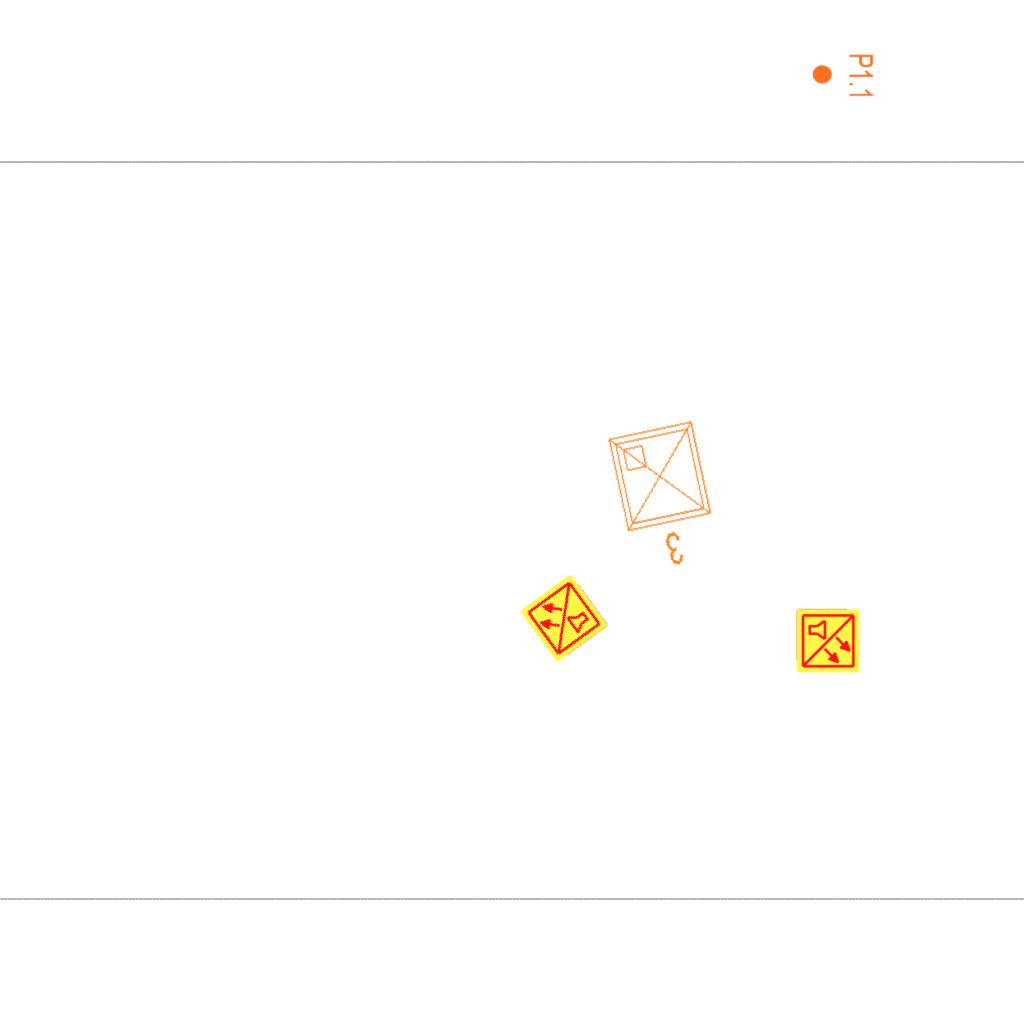Downlight_LED_Einbauleuchten_Flur: (811, 53, 875, 99)
Einbaudownlights_LED_Konferenzraeume: (599, 411, 733, 581)
OKW_Multisensormelder_(Kombination_optischer_Rauch-Kahlenmonoxid_Waerme-Melder): (517, 571, 611, 665), (795, 608, 861, 674)
